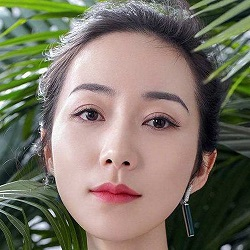unmask: (45, 25, 200, 240)
